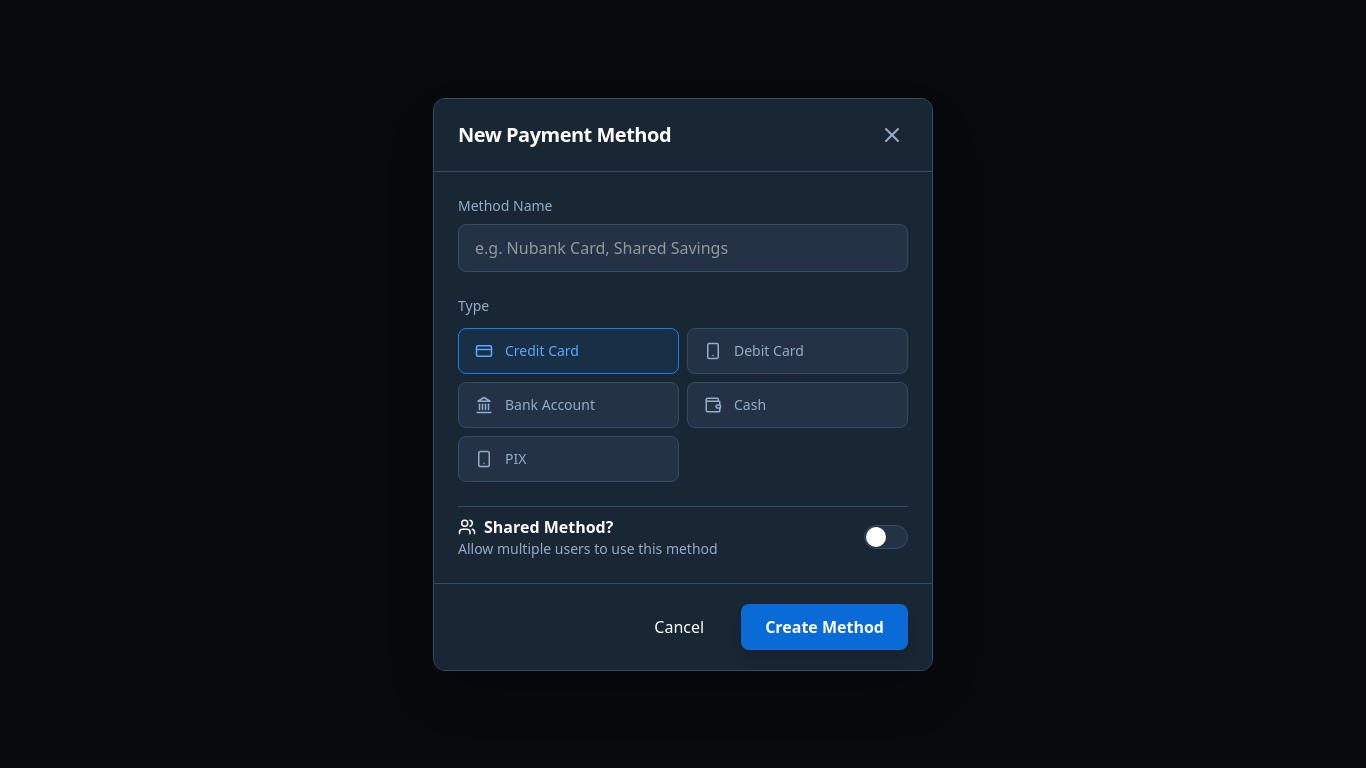
Test: PaymentMethodModal › exibe lista de usuários vinculados vazia quando /users retorna erro
Click the checkbox.
click(886, 536)  # box [864,524,908,548]
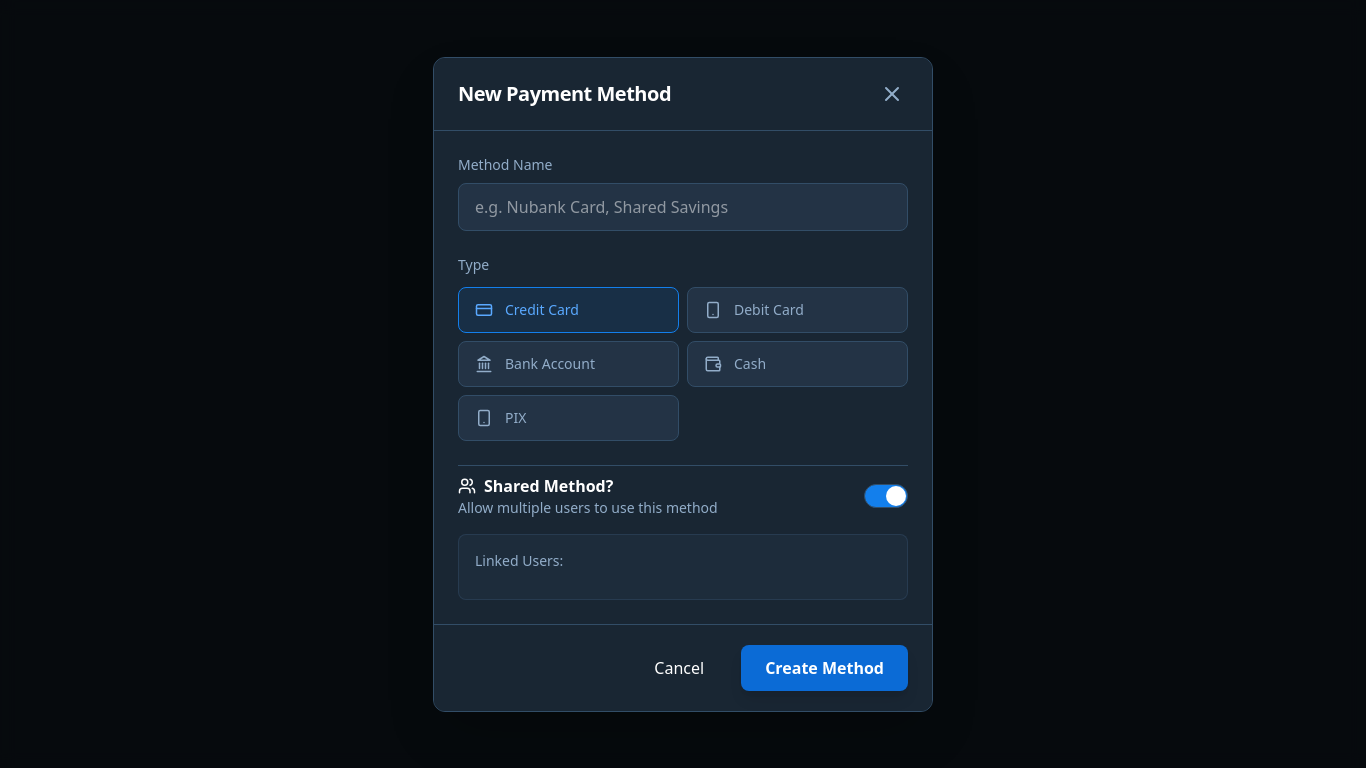
expect the text "Linked Users:" is shown: met, box [475,550,563,570]
